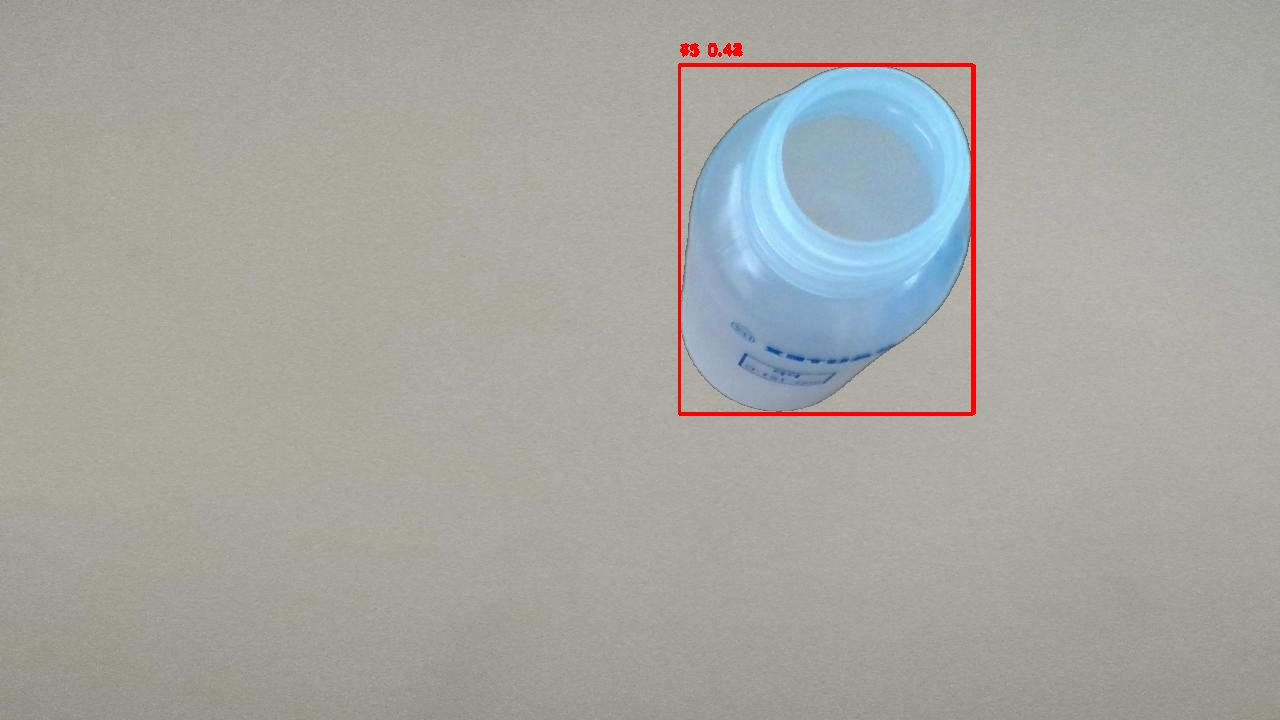cup: (679, 65, 974, 413), (679, 64, 972, 414)
